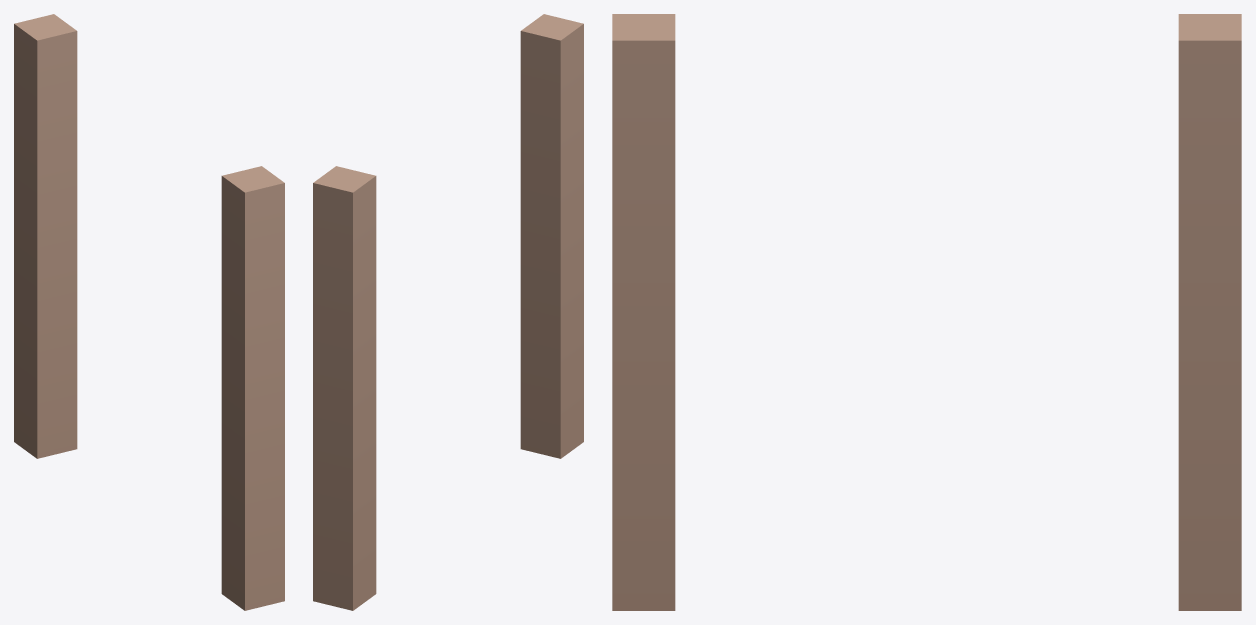
File: poles.glb
3 views of the same model, side by side, from view 1: azimuth 30°, elevation 25°; view 2: azimuth 150°, elevation 25°; view 3: azimuth 270°, elevation 25° (orthographic). The views are drawn at different scales.
Parts seen in each view (by area): view 1: poles; view 2: poles; view 3: poles.
Part boxes in pixels (x1,y1,x2,y2): poles: [14, 14, 284, 610]; poles: [313, 14, 583, 610]; poles: [612, 14, 1241, 610].
Bounding box in the file's own units: 0.1 × 1 × 1.
